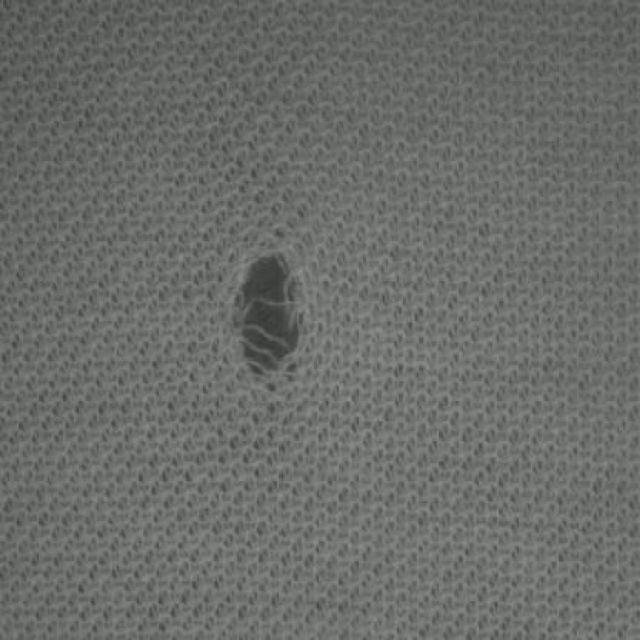Hole: (231, 251, 302, 375)
